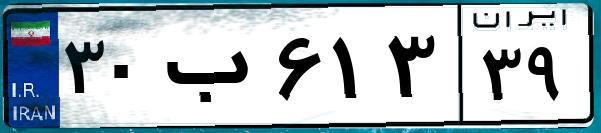0: (110, 28, 158, 98)
1: (330, 28, 385, 110)
3: (385, 28, 445, 110), (57, 26, 110, 100), (475, 38, 525, 113)
6: (270, 28, 330, 110)
9: (525, 38, 570, 115)
ب: (158, 20, 270, 120)
